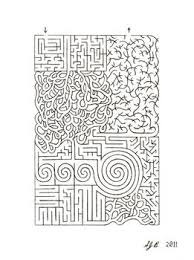maze: (33, 156, 160, 225), (35, 36, 108, 155), (110, 137, 138, 155)
